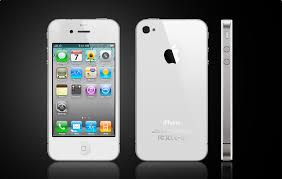iphone: (44, 16, 121, 162), (133, 16, 210, 162)
iphone4: (44, 14, 121, 160), (134, 15, 211, 161)
